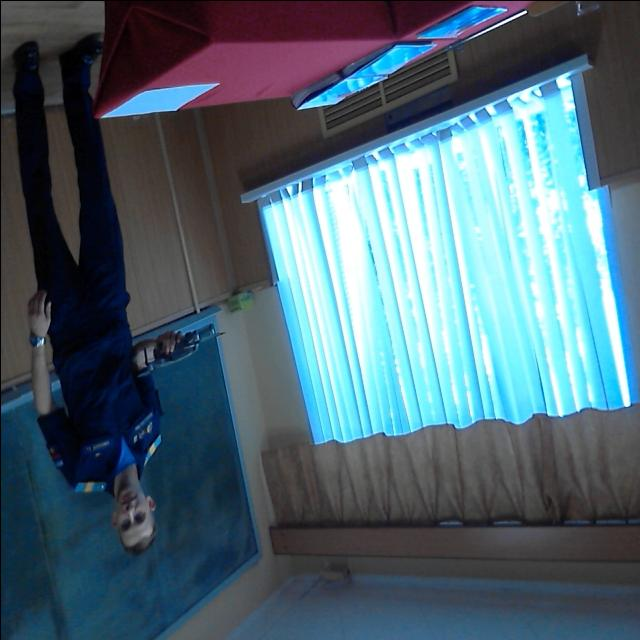drone: (137, 316, 221, 380)
